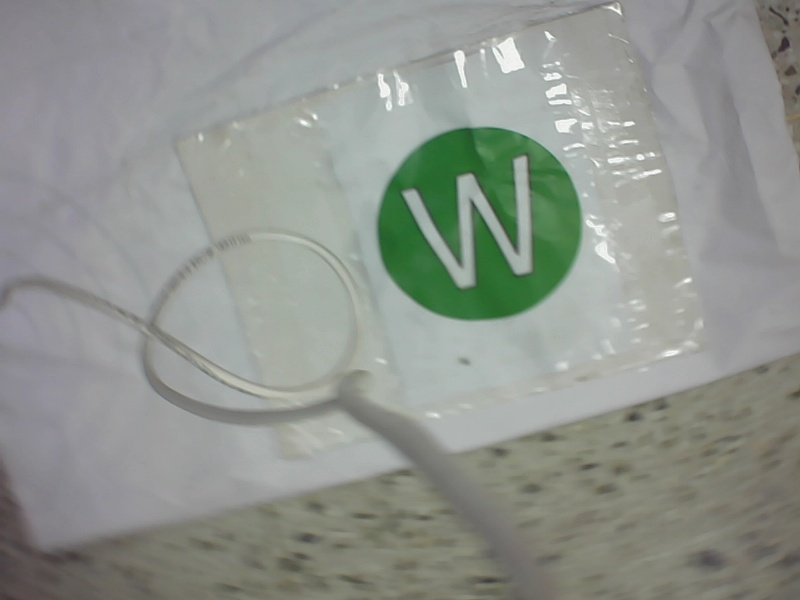areaB: (375, 121, 583, 322)
